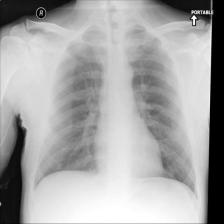normal: (34, 26, 199, 197)
